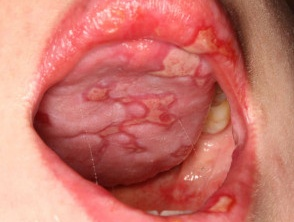SJS-TEN: (12, 0, 294, 222)
